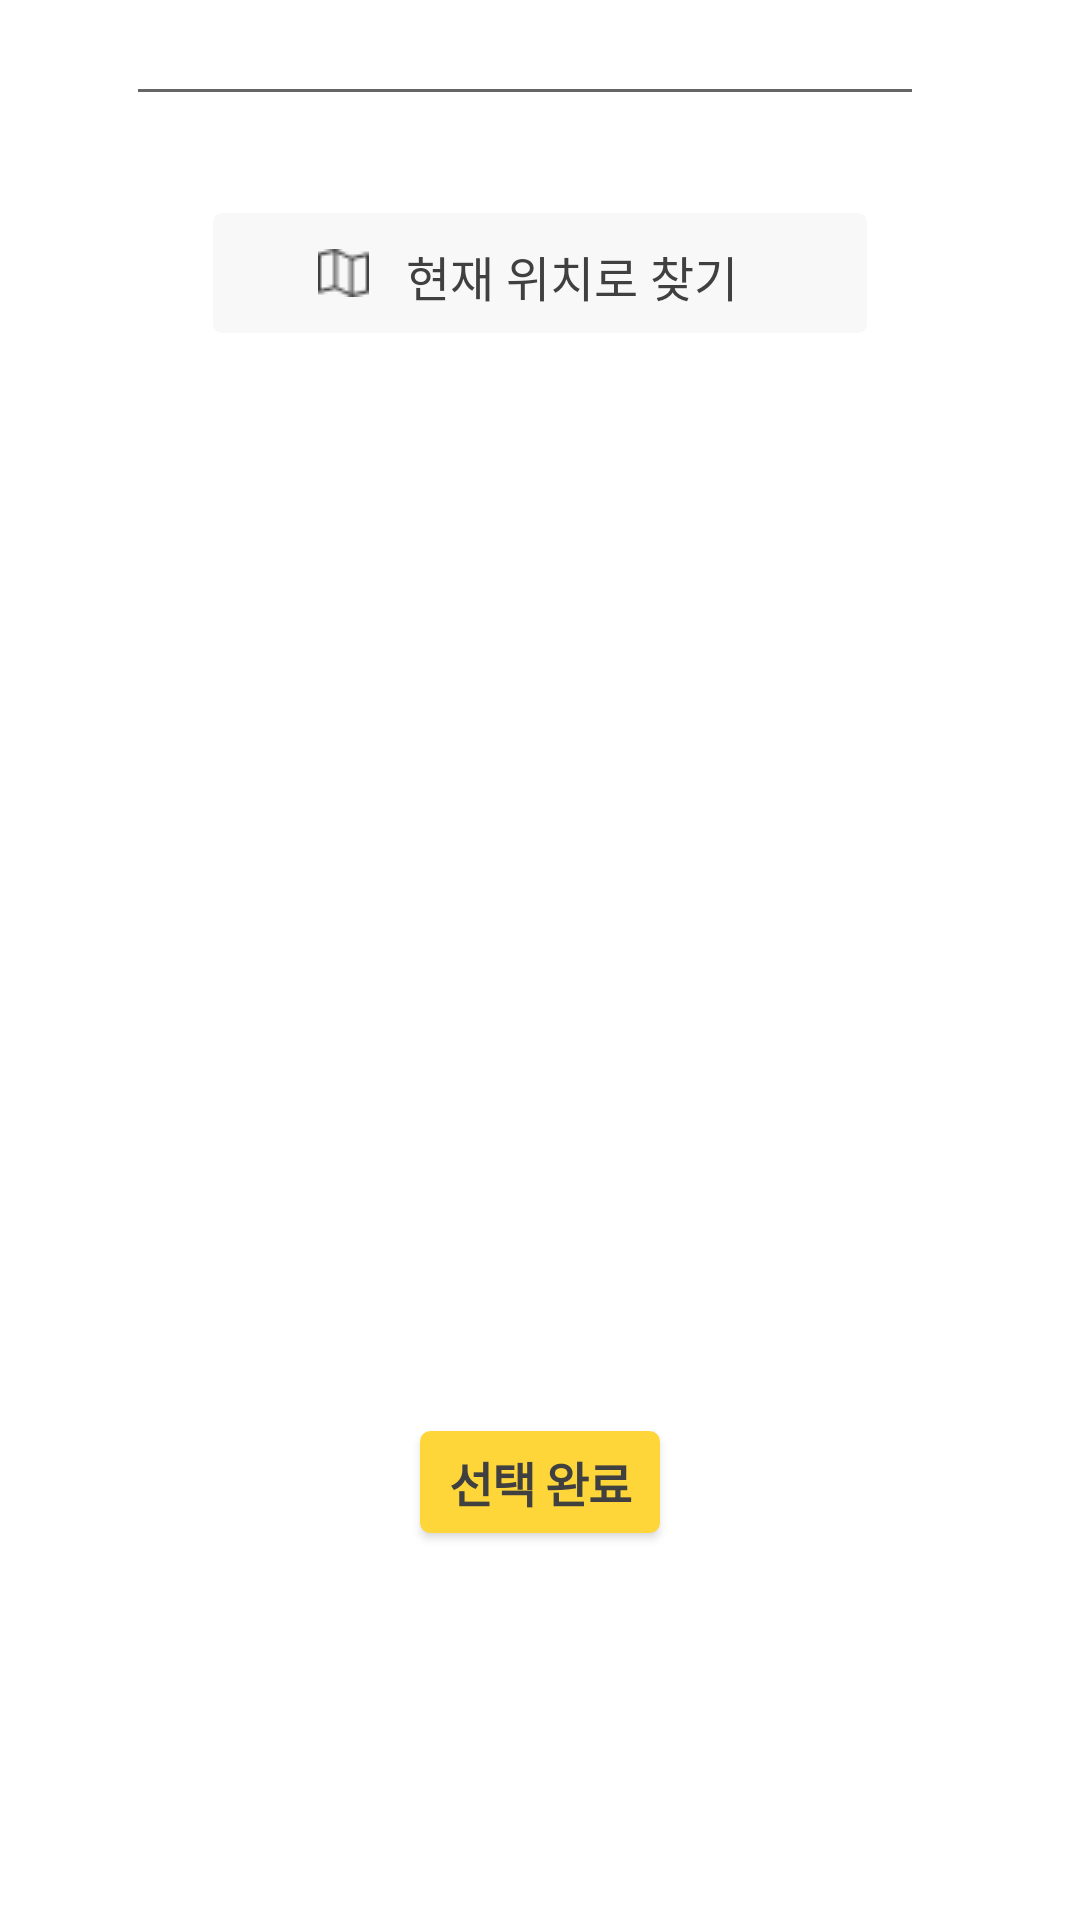

Where to tap for icons on this 1080x1920 app screen, as (x,y):
location: (343,273)
